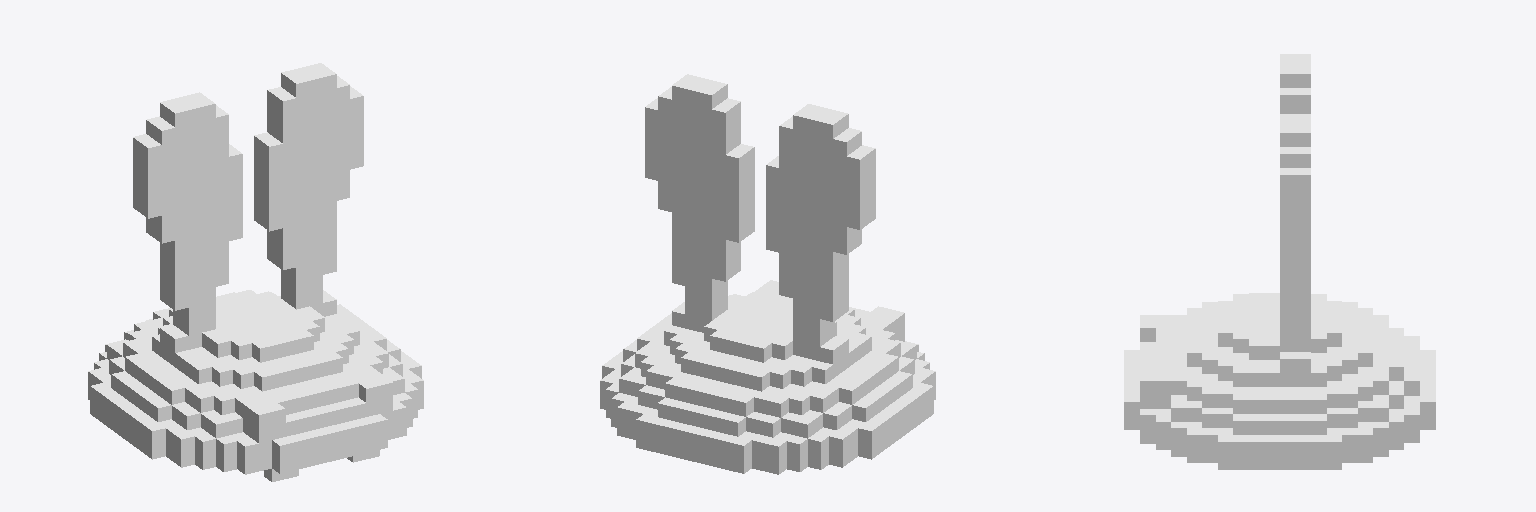
The model's file is Max_Hat.obj.
3 renders of one model, left to right at view 1: azimuth 30°, elevation 25°; view 2: azimuth 150°, elevation 25°; view 3: azimuth 270°, elevation 25°, orthographic.
Visible parts, largest first — view 1: Max_Hat; view 2: Max_Hat; view 3: Max_Hat.
Boxes of the visible parts, x1=… form: Max_Hat: x1=88, y1=63, x2=423, y2=481; Max_Hat: x1=600, y1=74, x2=935, y2=474; Max_Hat: x1=1124, y1=54, x2=1435, y2=469.
Bounding box in the file's own units: 40 × 46 × 40.